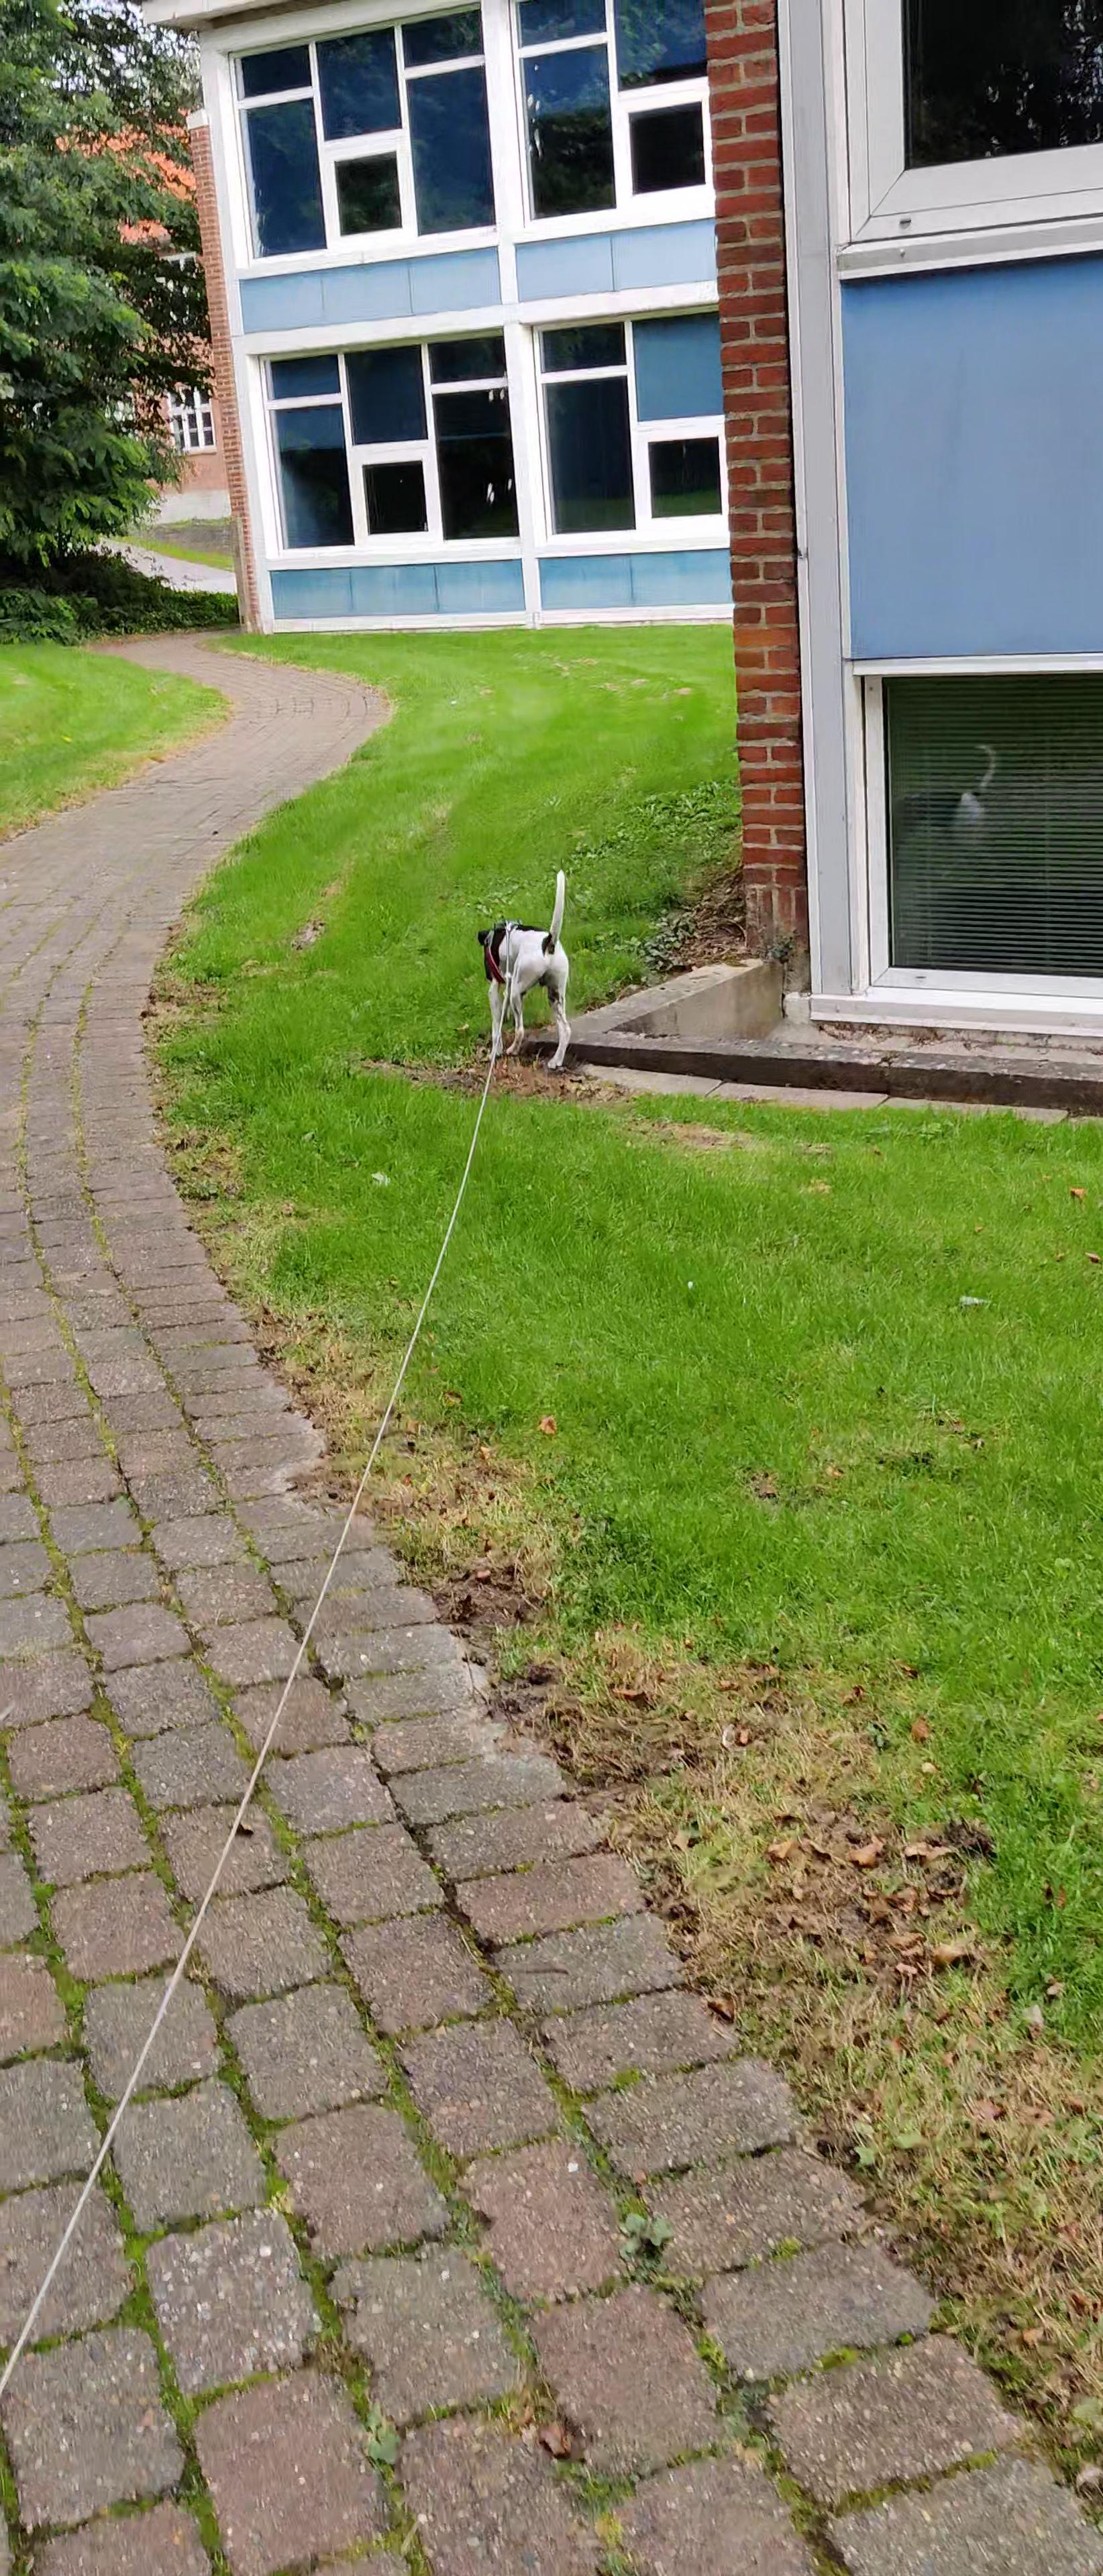Dog: (472, 856, 584, 1078)
